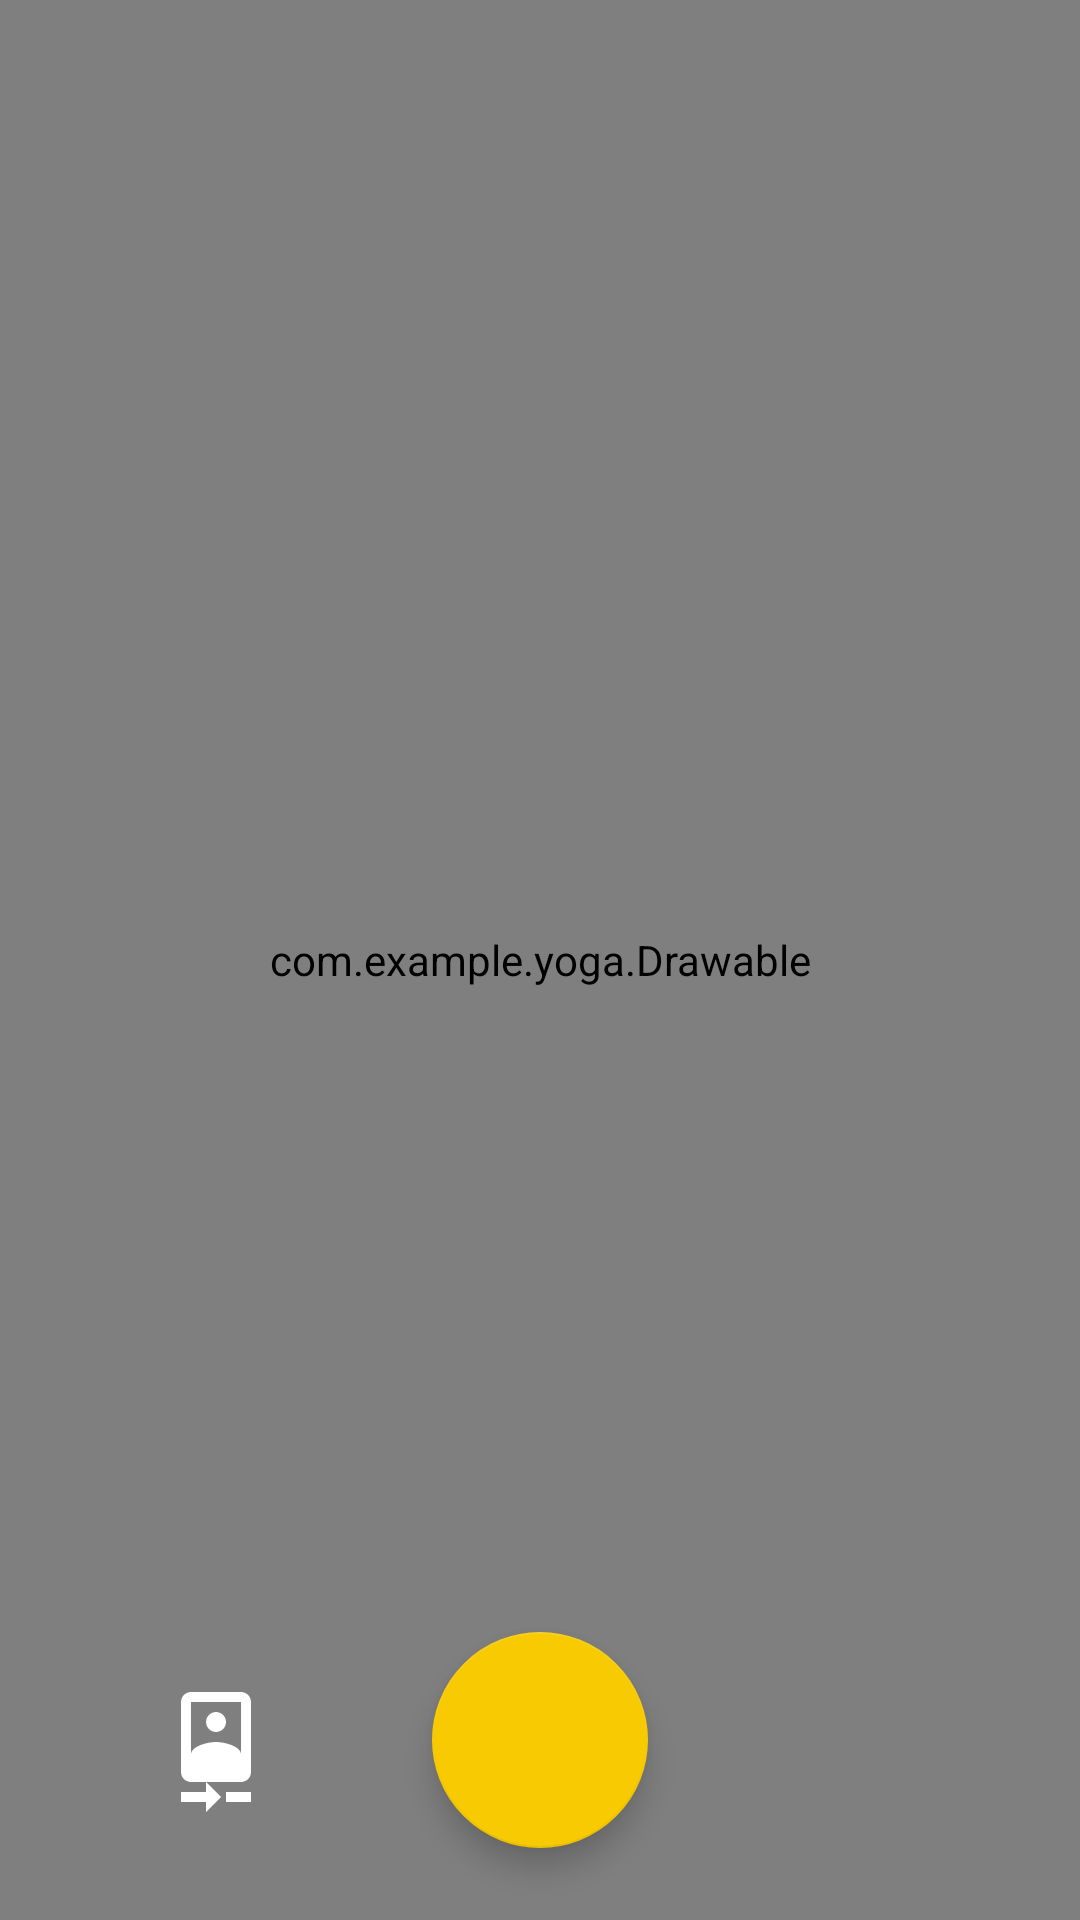

Icon bounding boxes for this 1080x1920 phone screenshot, format (x1, y1, x2, y2):
switch camera: (181, 1692, 251, 1812)
